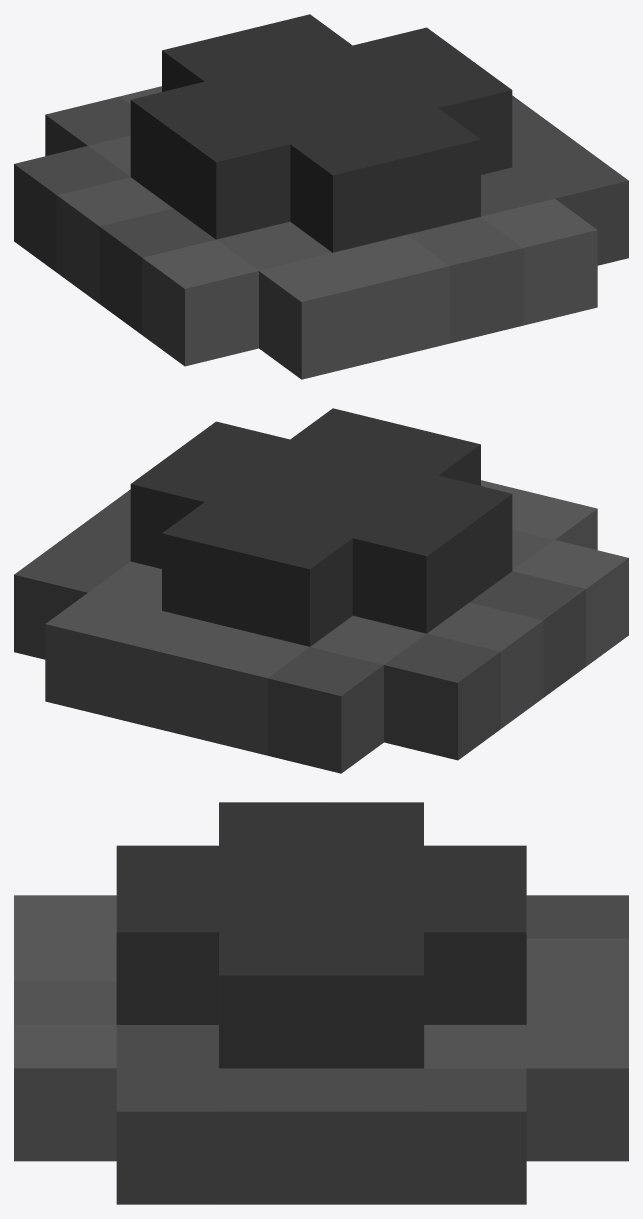
Rendered from Button_Floor_Circle_Gray.obj.
3 views of the same model, one above another, from view 1: azimuth 30°, elevation 25°; view 2: azimuth 150°, elevation 25°; view 3: azimuth 270°, elevation 25° (orthographic). The views are drawn at different scales.
Parts seen in each view (by area): view 1: Button_Floor_Circle_Gray_Button_Floor_Circle_Gray.002; view 2: Button_Floor_Circle_Gray_Button_Floor_Circle_Gray.002; view 3: Button_Floor_Circle_Gray_Button_Floor_Circle_Gray.002.
Part boxes in pixels (x1=…): Button_Floor_Circle_Gray_Button_Floor_Circle_Gray.002: x1=14, y1=14, x2=628, y2=379; Button_Floor_Circle_Gray_Button_Floor_Circle_Gray.002: x1=14, y1=408, x2=628, y2=773; Button_Floor_Circle_Gray_Button_Floor_Circle_Gray.002: x1=14, y1=802, x2=628, y2=1204.
Bounding box in the file's own units: 0.6 × 0.2 × 0.6.
Materials: 1 (1 with a texture image).
